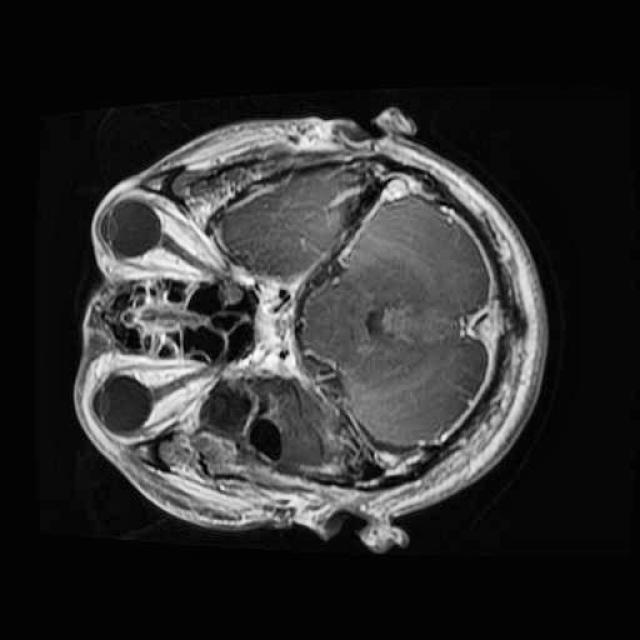Non-Tumor: (176, 351, 364, 501)
